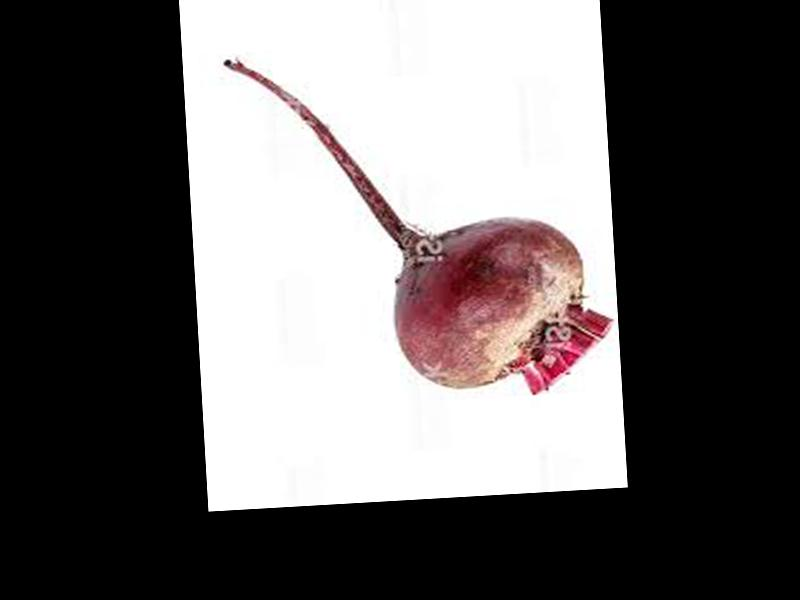Beet: (225, 38, 617, 409)
